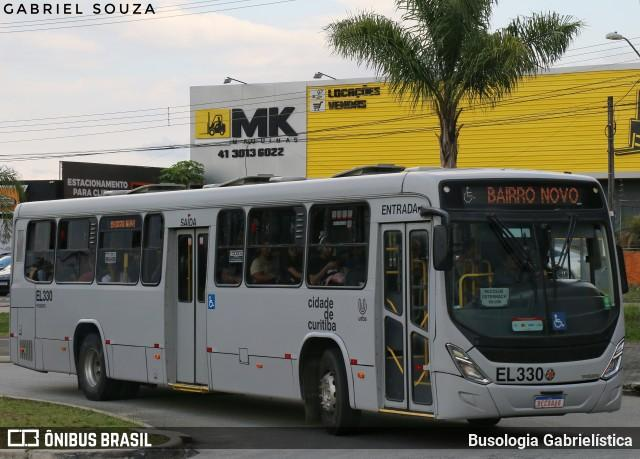BAIRRO NOVO: (482, 183, 583, 207)
